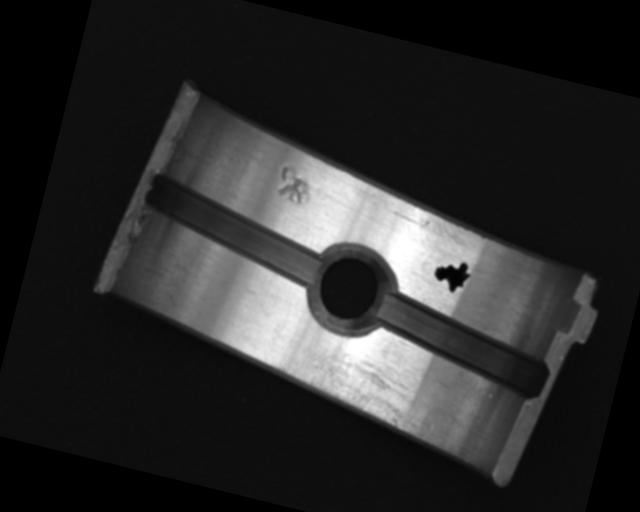blot: (429, 255, 475, 297)
bruise: (273, 163, 317, 207)
gap: (133, 171, 333, 291), (363, 290, 559, 401)
hole: (298, 240, 402, 344)
scratch: (269, 331, 449, 444)
